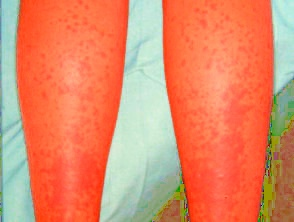SJS-TEN: (3, 0, 133, 222), (159, 0, 285, 222)
